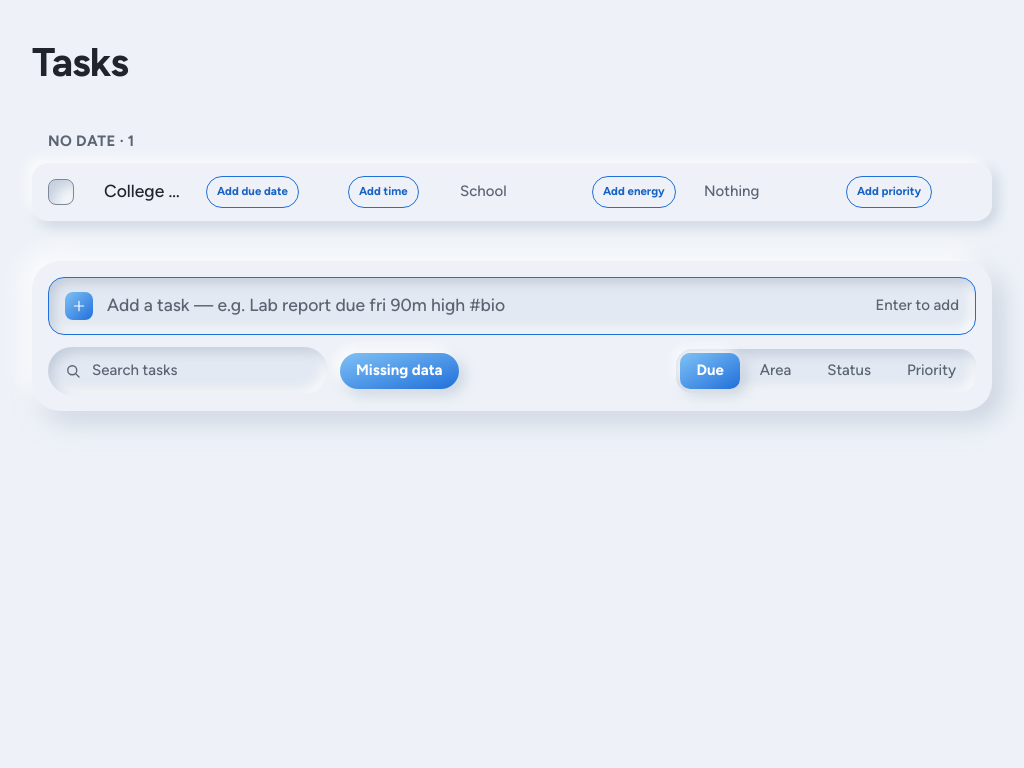
Test case: TasksPage › the 'Missing data' toggle › clicking the toggle again clears the filter and shows every Task again
Expected: the text "College essay brainstorm" is shown, left=104, top=178, right=186, bottom=205
Click the button with test id "tasks-filter-missing-data".
click(399, 370)  # box left=340, top=352, right=459, bottom=388
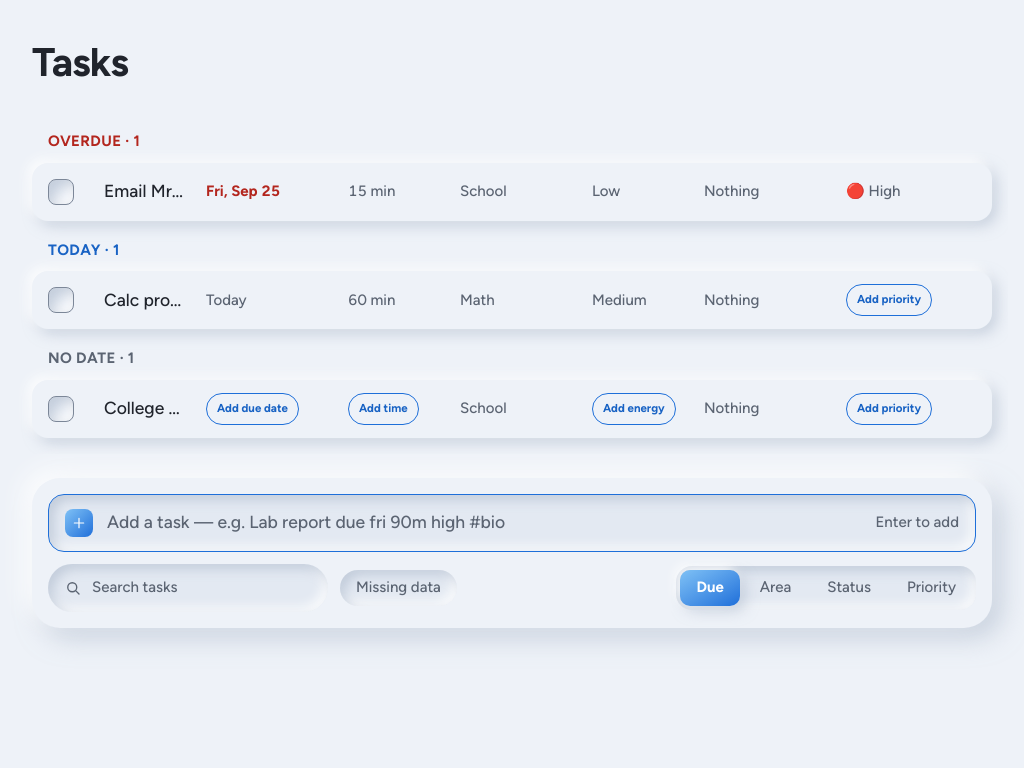
Result: the text "Calc problem set 4" is shown at left=104, top=287, right=186, bottom=313
Result: the text "Email Mr. Alvarez" is shown at left=104, top=178, right=186, bottom=205
